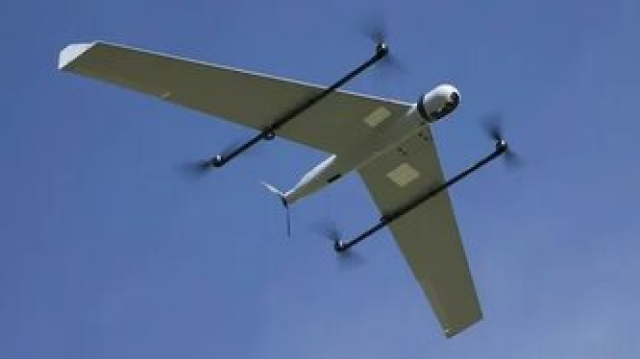military drone: (57, 40, 507, 338)
